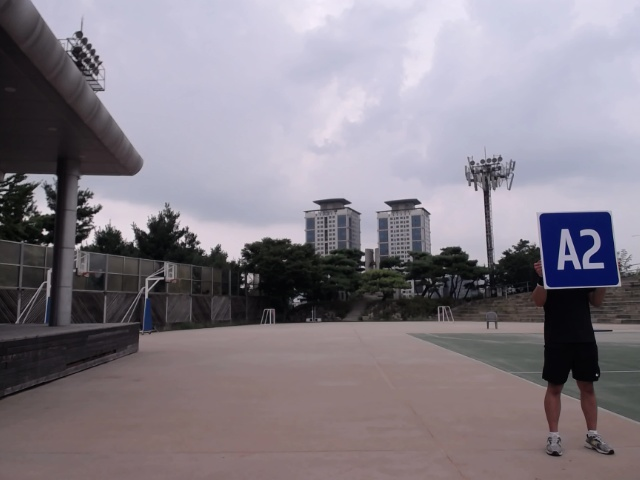delivery_a2: (538, 211, 620, 288)
